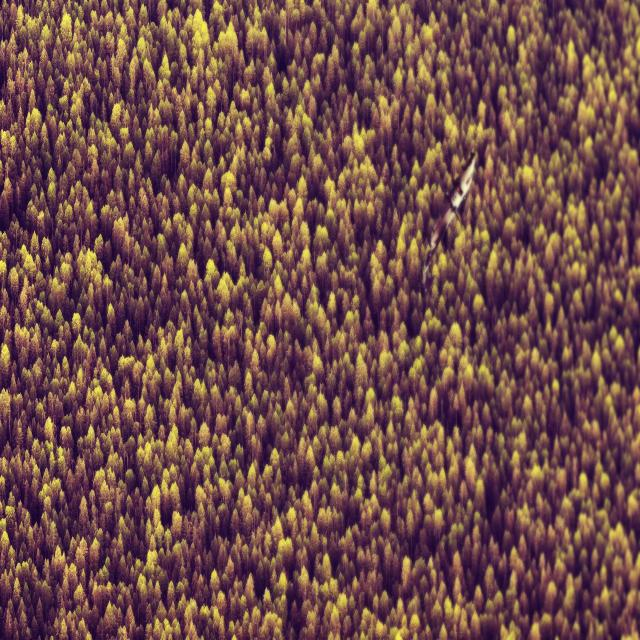airplane: (420, 149, 477, 286)
